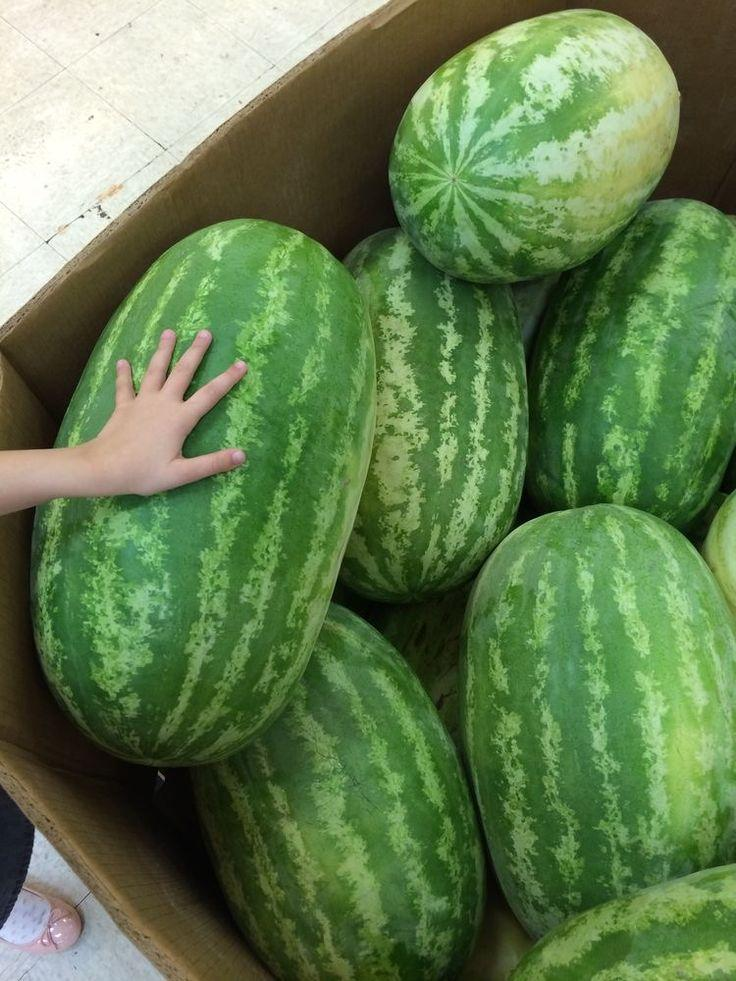watermelon: (28, 215, 379, 767), (457, 502, 735, 942), (190, 600, 487, 979), (387, 6, 681, 285), (524, 196, 735, 531), (355, 266, 500, 575)
